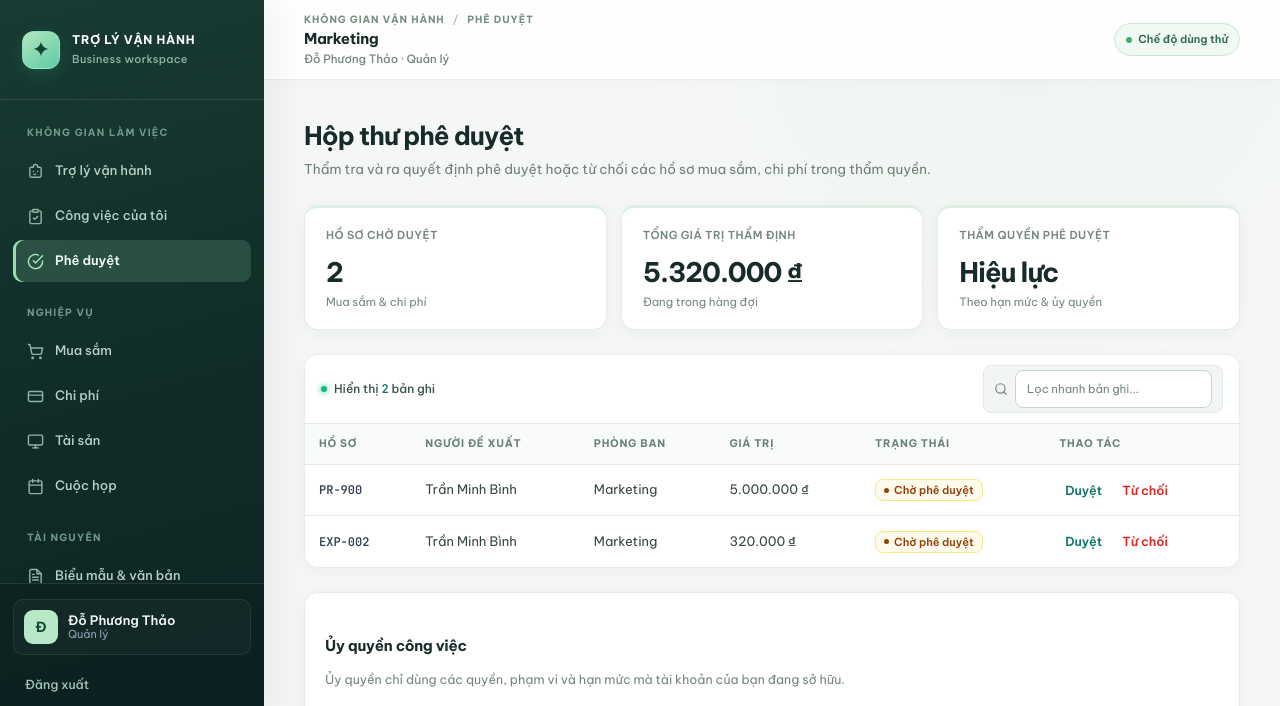
it: React Procurement integration › lets a manager approve a backend request and verifies the saved status
The width and height of the screenshot is (1280, 706).
Expected: the text "TRỢ LÝ VẬN HÀNH" is shown, x1=72 y1=32 x2=195 y2=48
Click the button "Duyệt" in the row of "PR-900": (1084, 490) x1=1059 y1=477 x2=1108 y2=503
(page scrolled)
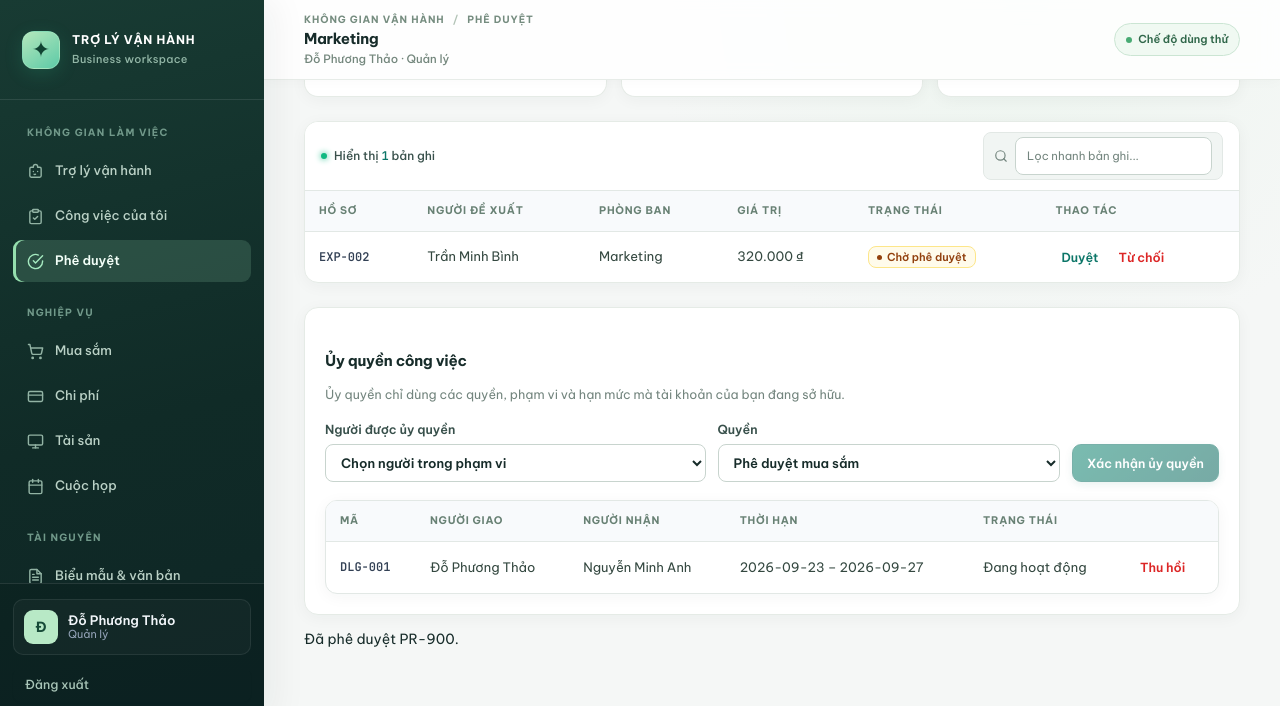
Now the text "Đã phê duyệt PR-900." is shown, box x1=304 y1=630 x2=459 y2=648
